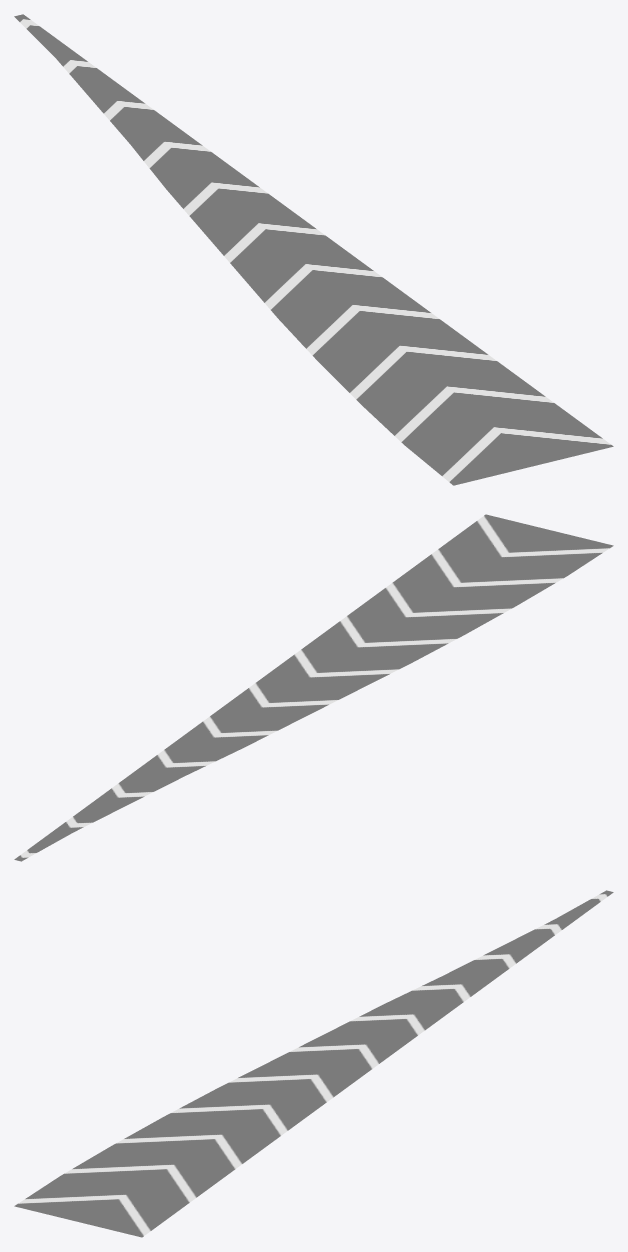
File: Marking_Chevron_Large_Off.fbx
The picture shows the model from 3 angles, top to bottom: view 1: azimuth 30°, elevation 25°; view 2: azimuth 150°, elevation 25°; view 3: azimuth 330°, elevation 25°; orthographic projection. The views are drawn at different scales.
Visible parts, largest first — view 1: Marking_Chevron_Large_Off; view 2: Marking_Chevron_Large_Off; view 3: Marking_Chevron_Large_Off.
Boxes of the visible parts, left/top/right/bottom form: Marking_Chevron_Large_Off: left=14, top=14, right=613, bottom=485; Marking_Chevron_Large_Off: left=14, top=514, right=613, bottom=861; Marking_Chevron_Large_Off: left=14, top=890, right=613, bottom=1237.
Bounding box in the file's own units: 690 × 4400 × 0.000192.
